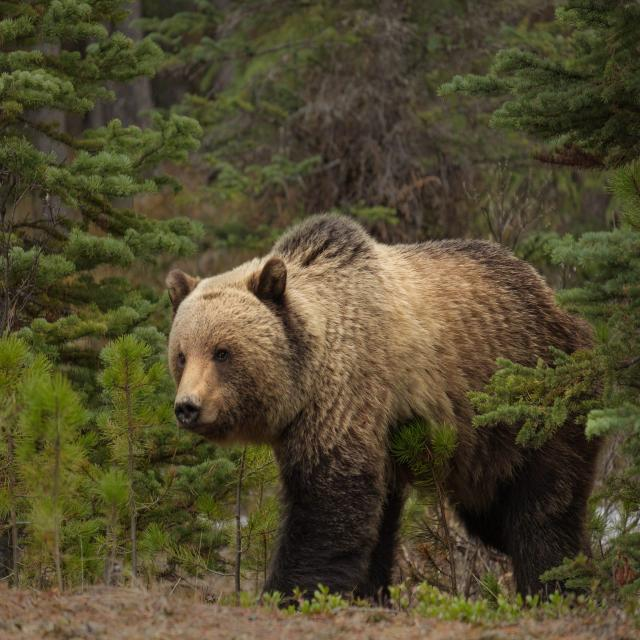Bear: (166, 213, 609, 608)
